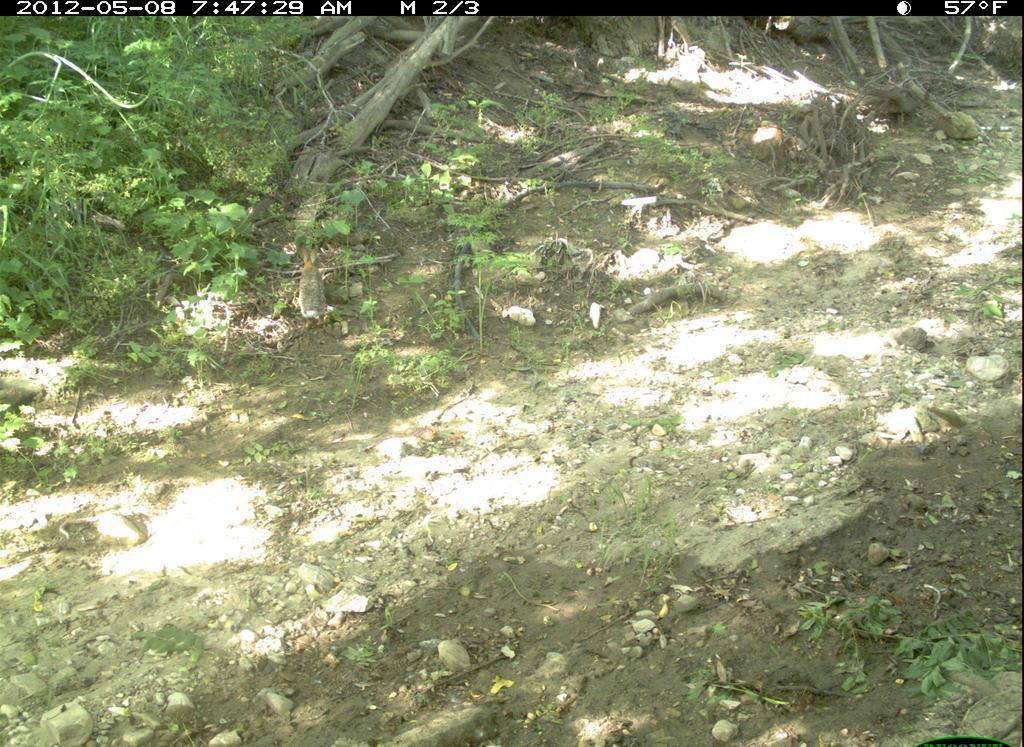rabbit: (285, 245, 340, 337)
